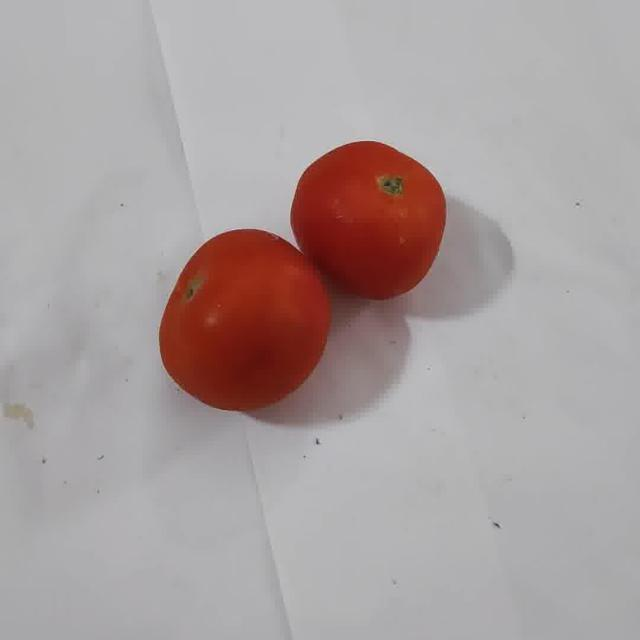Tomato: (159, 229, 331, 412), (291, 142, 445, 300)
